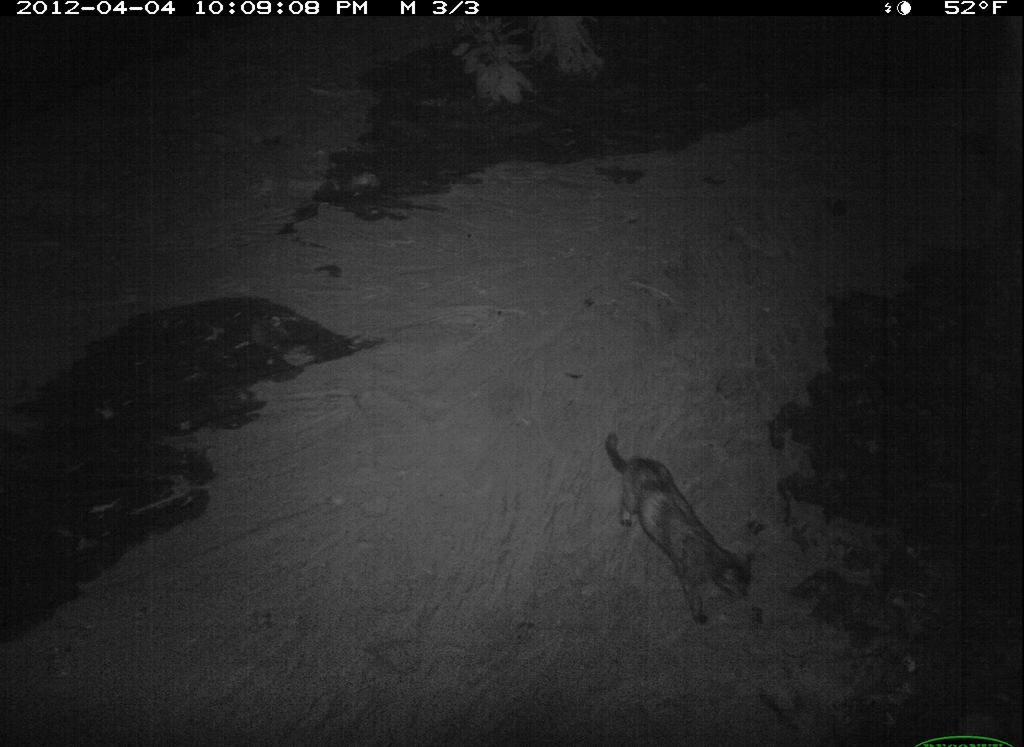cat: (601, 423, 767, 637)
